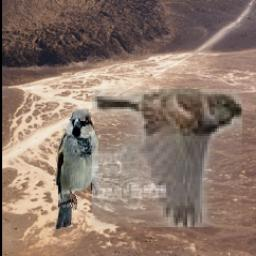Sparrow: (92, 90, 242, 228), (56, 109, 99, 229)
